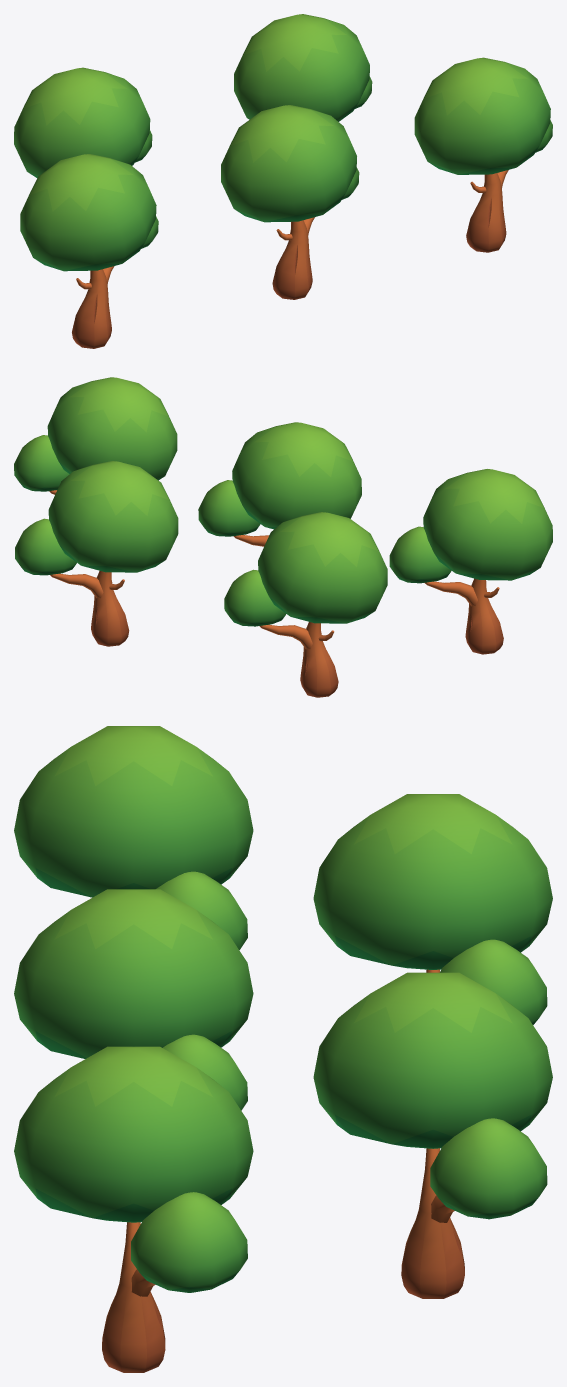
Rendered from Trees.glb.
3 views of the same model, one above another, from view 1: azimuth 30°, elevation 25°; view 2: azimuth 150°, elevation 25°; view 3: azimuth 270°, elevation 25° (orthographic). The views are drawn at different scales.
Visible parts, largest first — view 1: Tree_1_B_Color1; view 2: Tree_1_B_Color1; view 3: Tree_1_B_Color1.
Boxes of the visible parts, <box> form: Tree_1_B_Color1: <box>14,14,552,348</box>; Tree_1_B_Color1: <box>14,377,552,697</box>; Tree_1_B_Color1: <box>14,726,552,1372</box>.
Bounding box in the file's own units: 44.75 × 14.79 × 23.26.
Materials: 1 (1 with a texture image).
